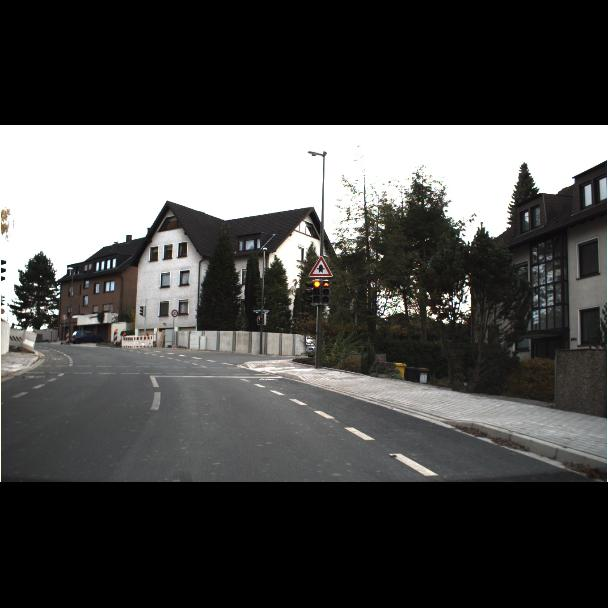speed limit 30: (171, 256, 333, 318)
